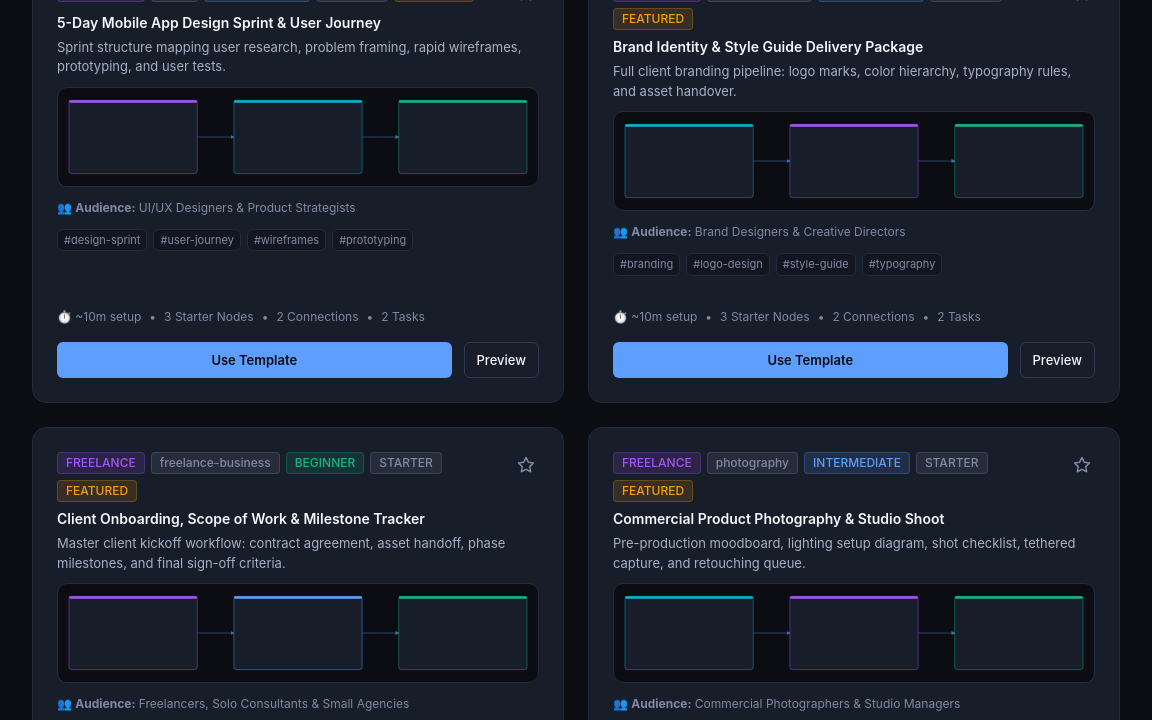
Test: Template Gallery View Integration › opens interactive preview modal and closes it
(page scrolled)
# Click first preview button
What coordinates should you click on to do the following:
click the button "Preview " below "user-journey"
I would click on:
 (501, 360)
Its box is [464,342,539,378].
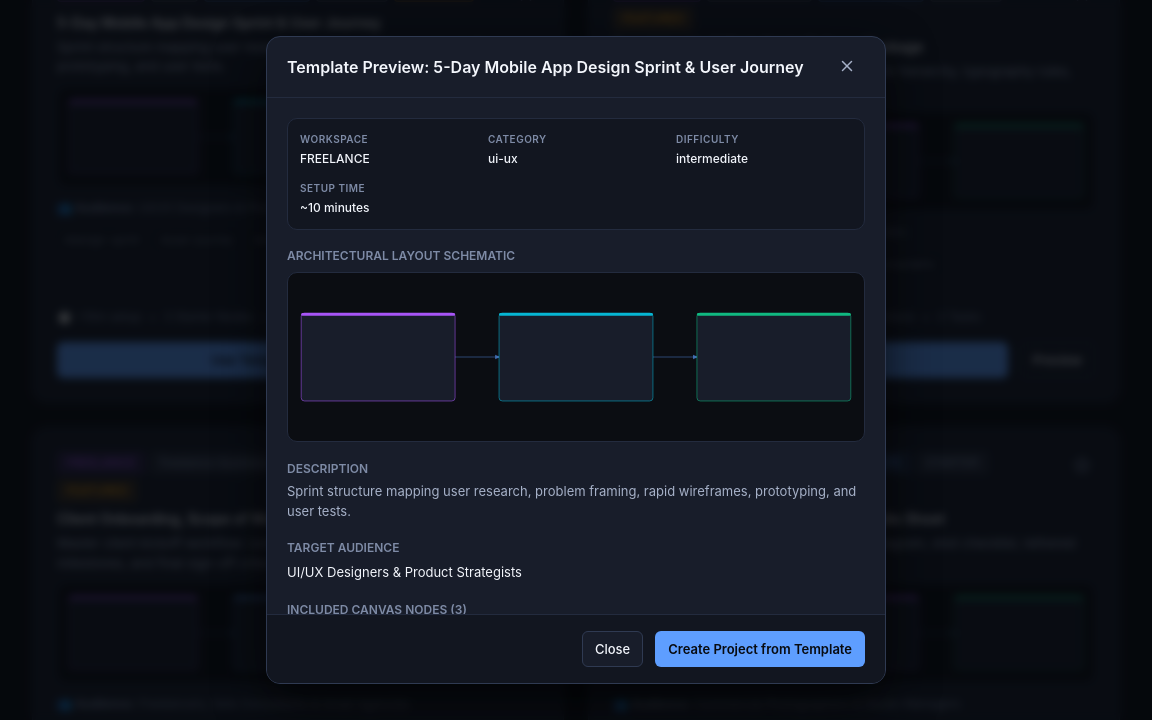
Now the text "Included Canvas Nodes (3)" is shown, box [287,602,467,614]
Now the button "Create Project from Template" is shown, box [655,631,865,667]
# Close dialog
What coordinates should you click on to do the following:
click the button "Close"
I would click on:
 (613, 649)
Its box is [582,631,643,667].
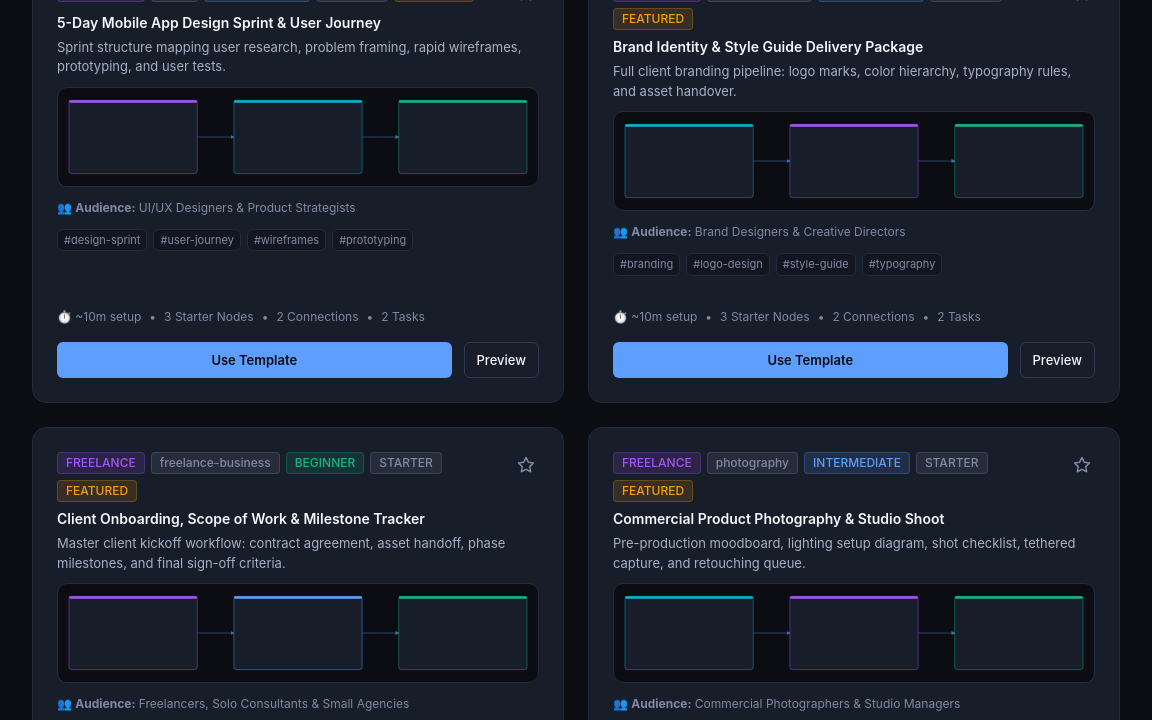
Now the text "Included Canvas Nodes" is gone
